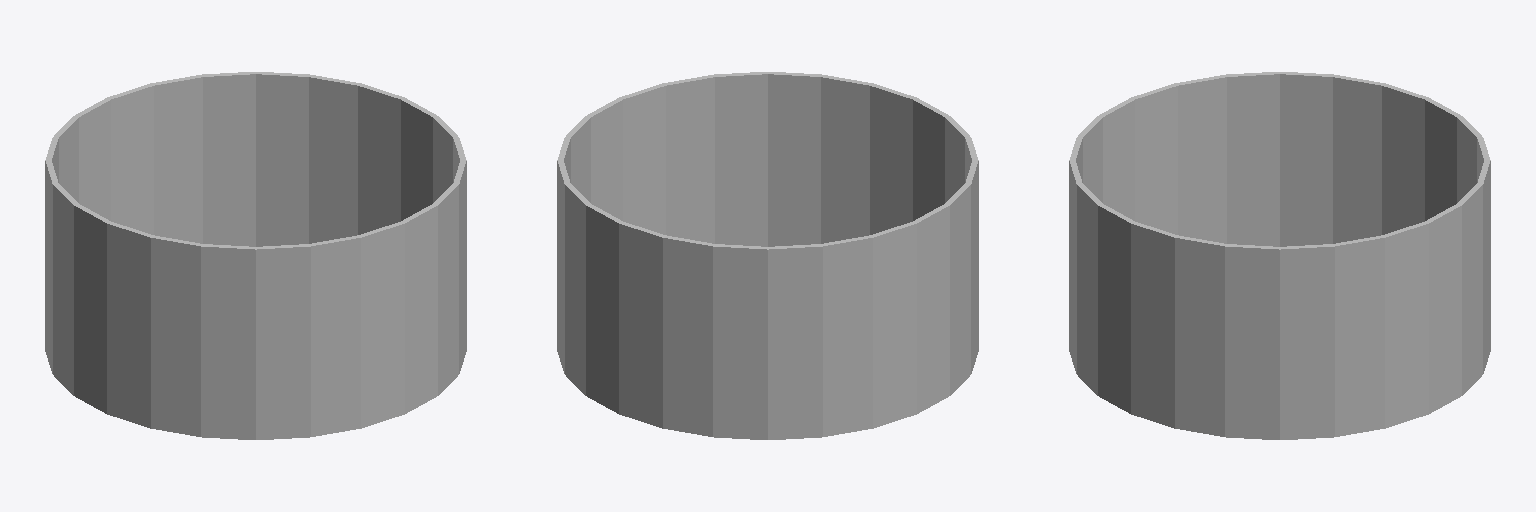
Rendered from Col_Intertank.obj.
The picture shows the model from 3 angles: view 1: azimuth 30°, elevation 25°; view 2: azimuth 150°, elevation 25°; view 3: azimuth 270°, elevation 25°; orthographic projection.
Visible parts, largest first — view 1: Tube1_cut7, Tube1_cut6, Tube1_cut12, Tube1, Tube1_cut8, Tube1_cut5, Tube1_cut11, Tube1_cut2, Tube1_cut9, Tube1_cut4, Tube1_cut10, Tube1_cut3; view 2: Tube1_cut3, Tube1_cut2, Tube1_cut9, Tube1_cut8, Tube1_cut12, Tube1_cut4, Tube1_cut10, Tube1_cut7, Tube1_cut5, Tube1, Tube1_cut11, Tube1_cut6; view 3: Tube1_cut11, Tube1_cut10, Tube1_cut5, Tube1_cut4, Tube1_cut9, Tube1, Tube1_cut6, Tube1_cut3, Tube1_cut12, Tube1_cut8, Tube1_cut7, Tube1_cut2.
Part boxes in pixels (x1,y1,x2,y2): Tube1_cut7: (256,235,360,439); Tube1_cut6: (151,235,255,439); Tube1_cut12: (151,72,255,246); Tube1: (256,72,360,246); Tube1_cut8: (358,204,437,428); Tube1_cut5: (74,204,153,428); Tube1_cut11: (358,83,436,234); Tube1_cut2: (75,83,153,234); Tube1_cut9: (433,161,466,395); Tube1_cut4: (45,161,78,395); Tube1_cut10: (433,116,466,202); Tube1_cut3: (45,116,78,202); Tube1_cut3: (768,235,872,439); Tube1_cut2: (663,235,767,439); Tube1_cut9: (663,72,767,246); Tube1_cut8: (768,72,872,246); Tube1_cut12: (586,204,665,428); Tube1_cut4: (870,204,949,428); Tube1_cut10: (587,83,665,234); Tube1_cut7: (870,83,948,234); Tube1_cut5: (945,161,978,395); Tube1: (557,161,590,395); Tube1_cut11: (557,116,590,202); Tube1_cut6: (945,116,978,202); Tube1_cut11: (1280,235,1384,439); Tube1_cut10: (1175,235,1279,439); Tube1_cut5: (1175,72,1279,246); Tube1_cut4: (1280,72,1384,246); Tube1_cut9: (1098,204,1177,428); Tube1: (1382,204,1461,428); Tube1_cut6: (1099,83,1177,234); Tube1_cut3: (1382,83,1460,234); Tube1_cut12: (1457,161,1490,395); Tube1_cut8: (1069,161,1102,395); Tube1_cut7: (1069,116,1102,202); Tube1_cut2: (1457,116,1490,202).
Size of the model in its own units: 1 by 0.5 by 1.